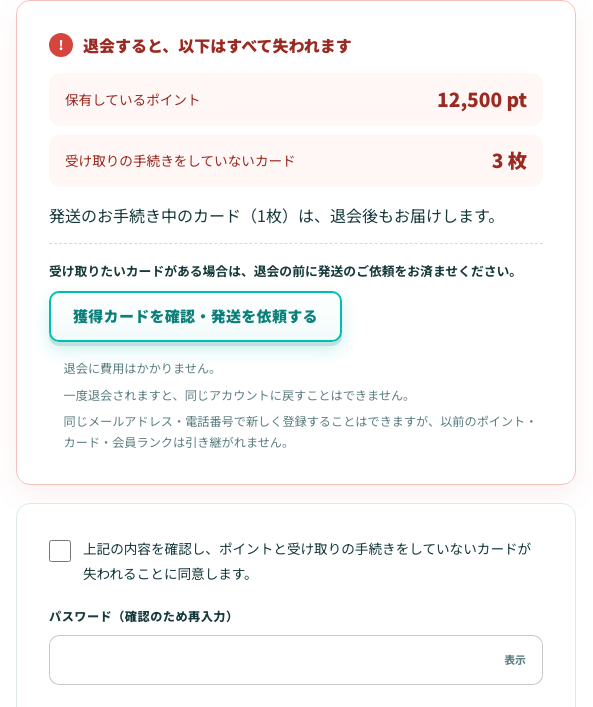
Test case: clears invalid password while keeping consent
The image size is (593, 707).
Click the checkbox at (60, 552), box [49, 540, 71, 562]
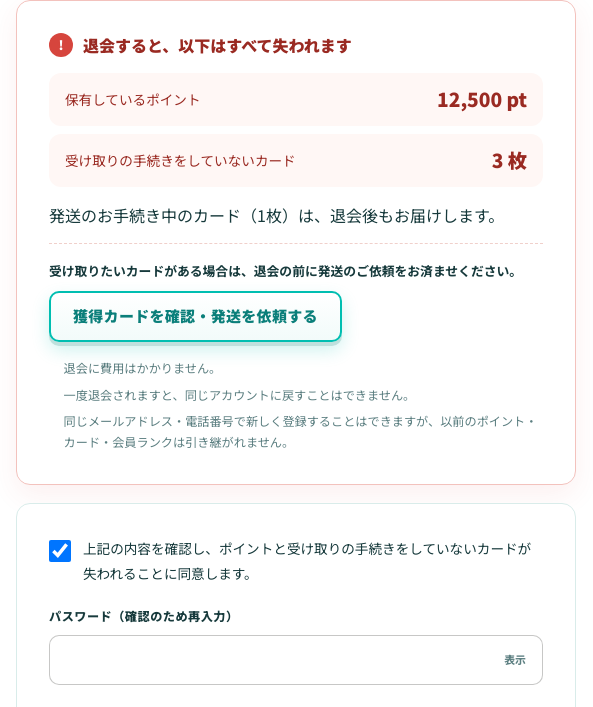
Type "wrong-password" into the password field labelled "パスワード（確認のため再入力）" at (296, 660), box [49, 635, 543, 685]
(page scrolled)
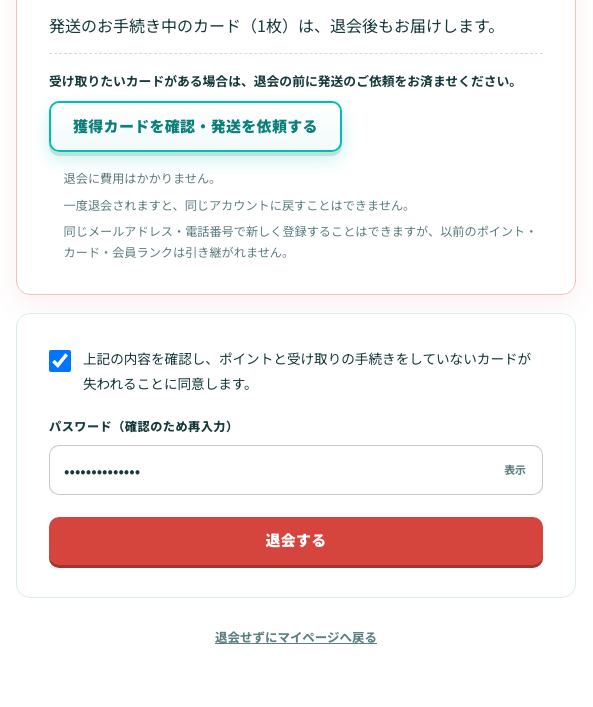
Click the button "退会する" at (296, 541), box [49, 517, 543, 565]
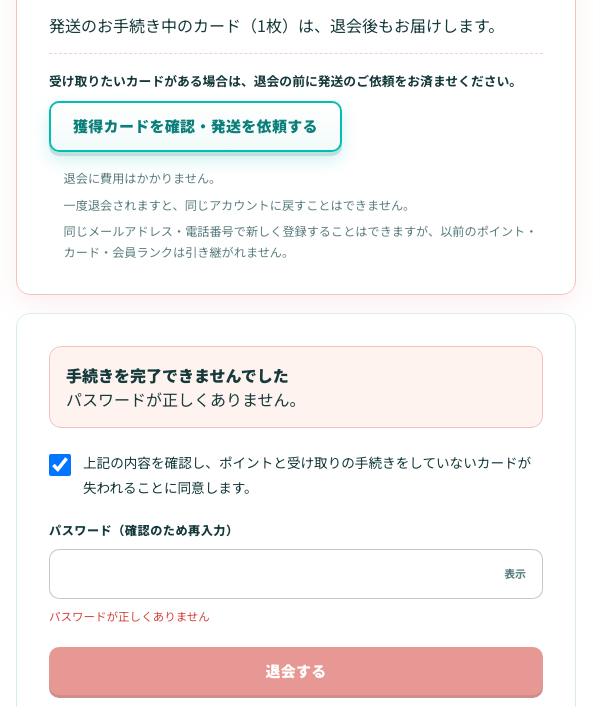
Expected: the checkbox is checked, [49, 454, 71, 476]
Expected: the message "手続きを完了できませんでした パスワードが正しくありません。" is shown, [49, 346, 543, 428]
Expected: the password field labelled "パスワード（確認のため再入力）" is empty, [49, 549, 543, 599]
